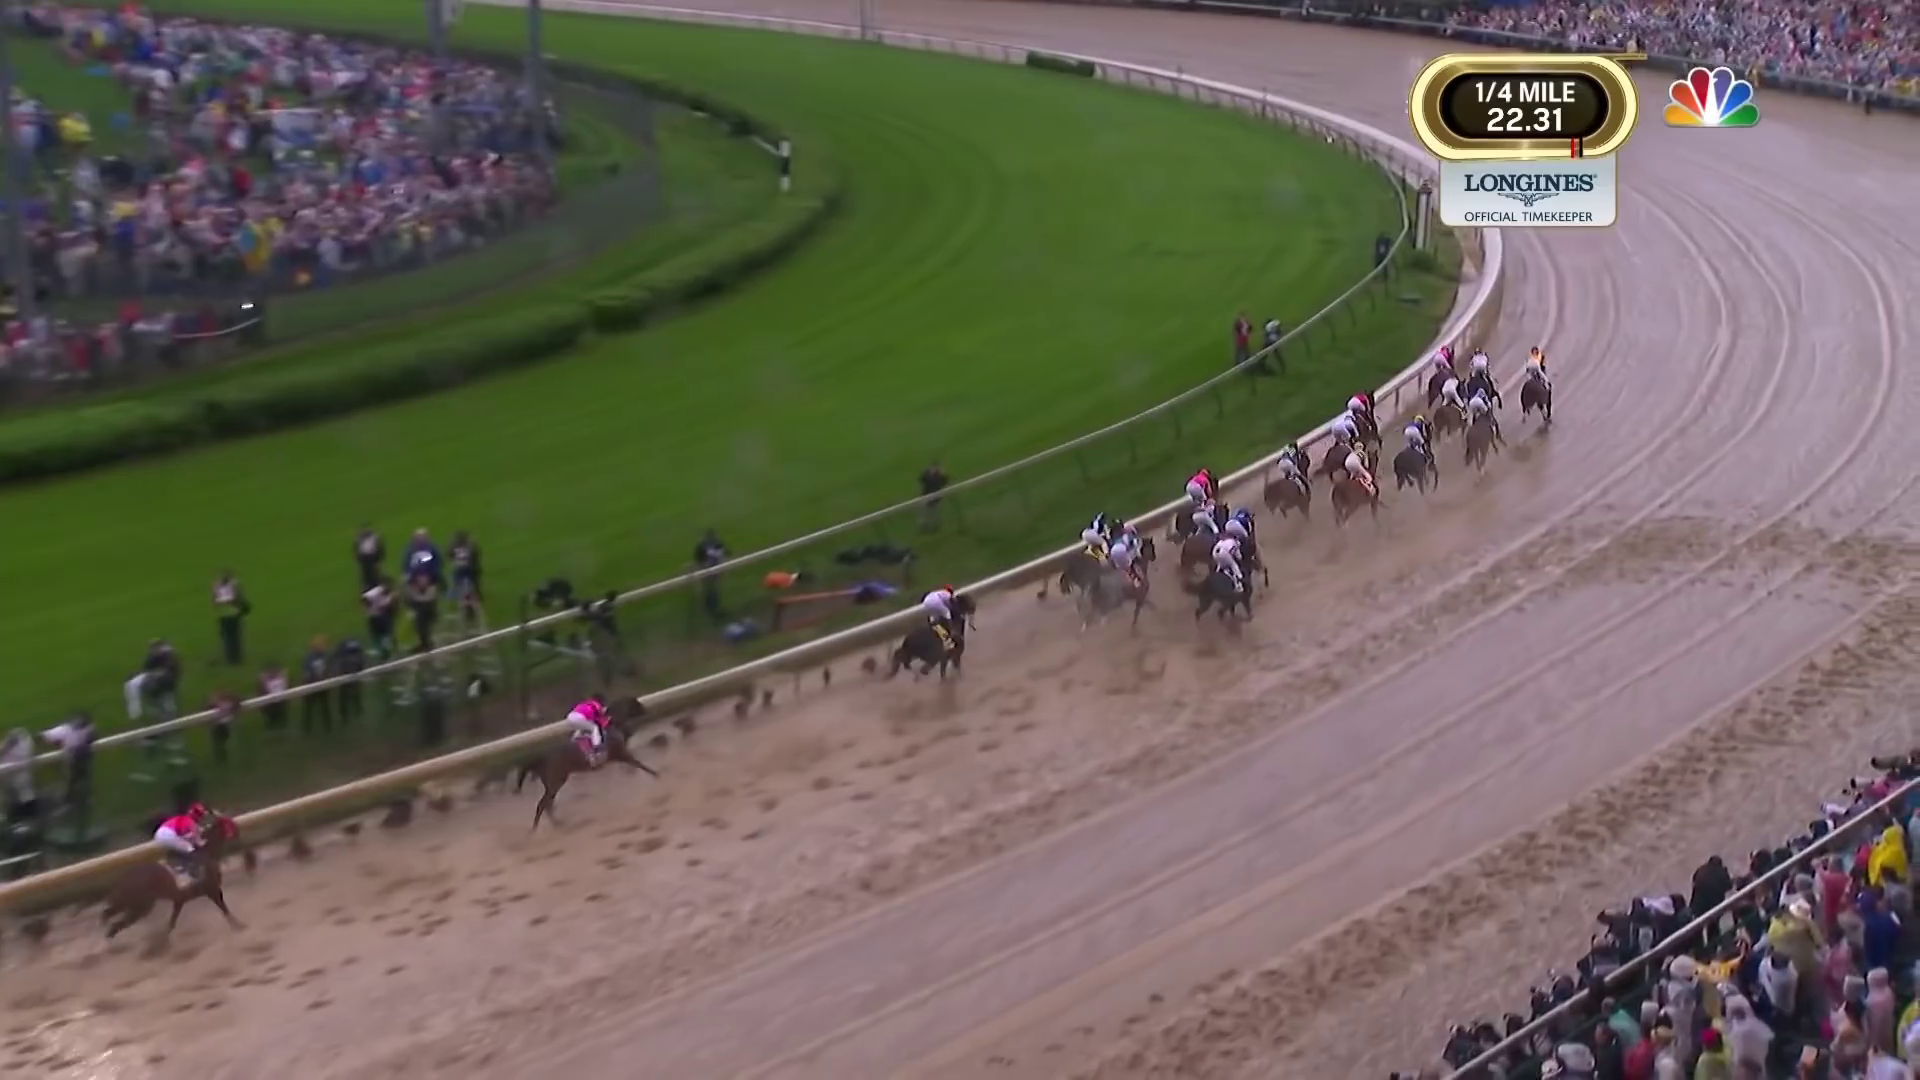jockey: (160, 803, 204, 864), (571, 695, 607, 752), (1076, 508, 1120, 553), (1105, 527, 1145, 574), (923, 587, 956, 633), (1342, 440, 1371, 485), (1208, 534, 1242, 571), (1399, 415, 1433, 452), (1275, 438, 1309, 473), (1522, 347, 1548, 392), (1185, 469, 1217, 506), (1469, 392, 1495, 426), (1345, 392, 1374, 419), (1431, 343, 1452, 378)
